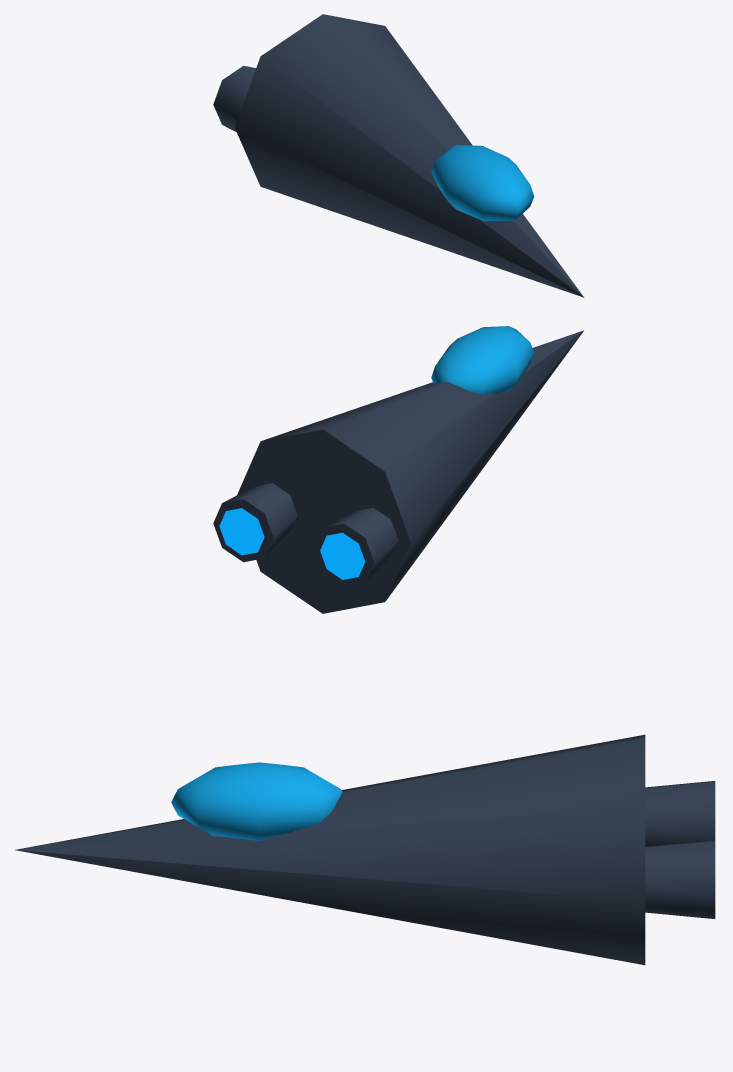
File: skin_ship.glb
3 renders of one model, top to bottom at view 1: azimuth 30°, elevation 25°; view 2: azimuth 150°, elevation 25°; view 3: azimuth 270°, elevation 25°, orthographic. The views are drawn at different scales.
Parts seen in each view (by area): view 1: Skin_Ship; view 2: Skin_Ship; view 3: Skin_Ship.
Part boxes in pixels (x1=…): Skin_Ship: x1=213, y1=14, x2=584, y2=297; Skin_Ship: x1=213, y1=326, x2=583, y2=613; Skin_Ship: x1=15, y1=734, x2=715, y2=965.
Bounding box in the file's own units: 2.8 × 0.7 × 2.01.
